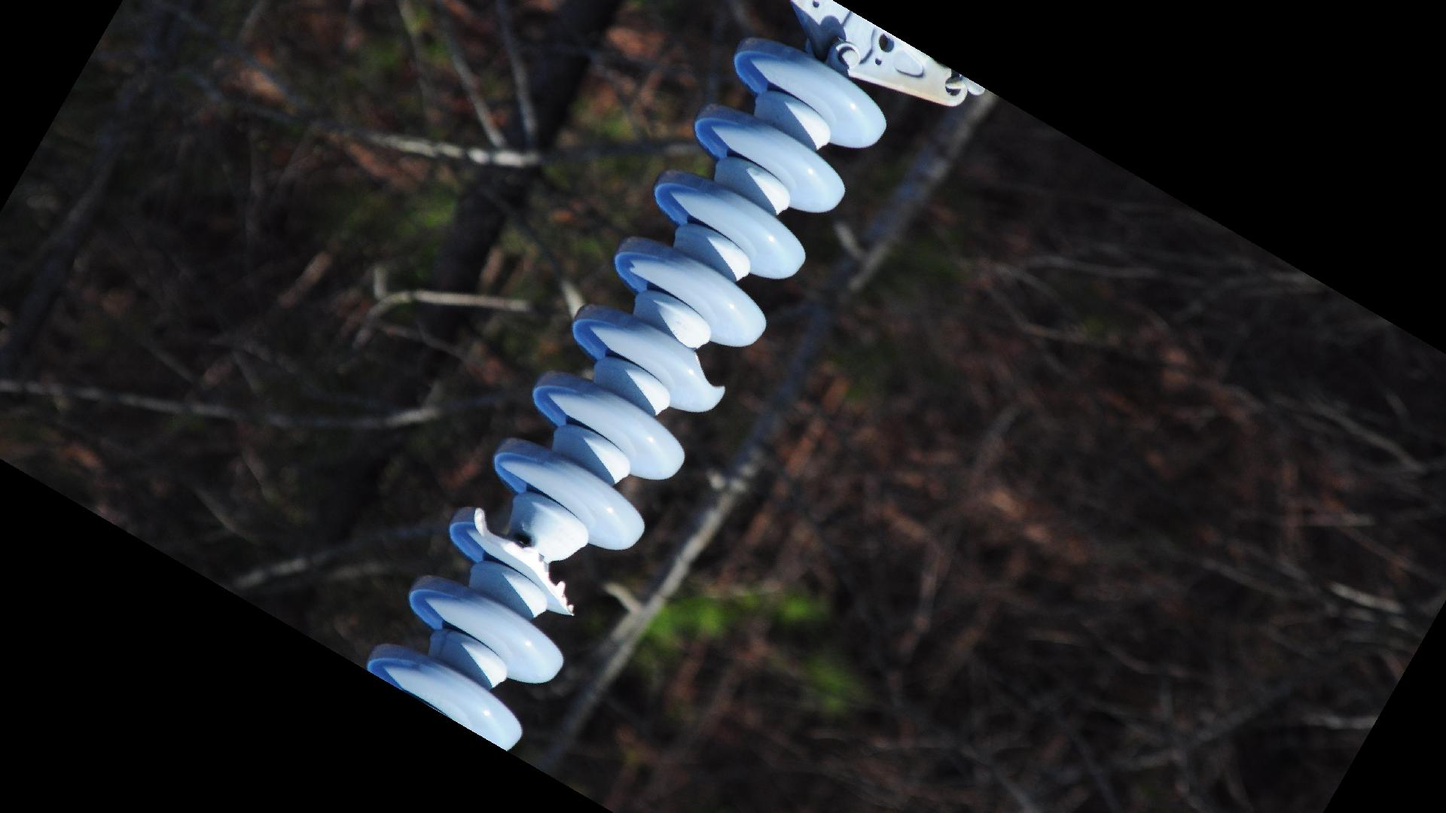insulator: (359, 29, 895, 755)
insulator_breakage: (462, 499, 583, 625), (682, 343, 734, 400)
